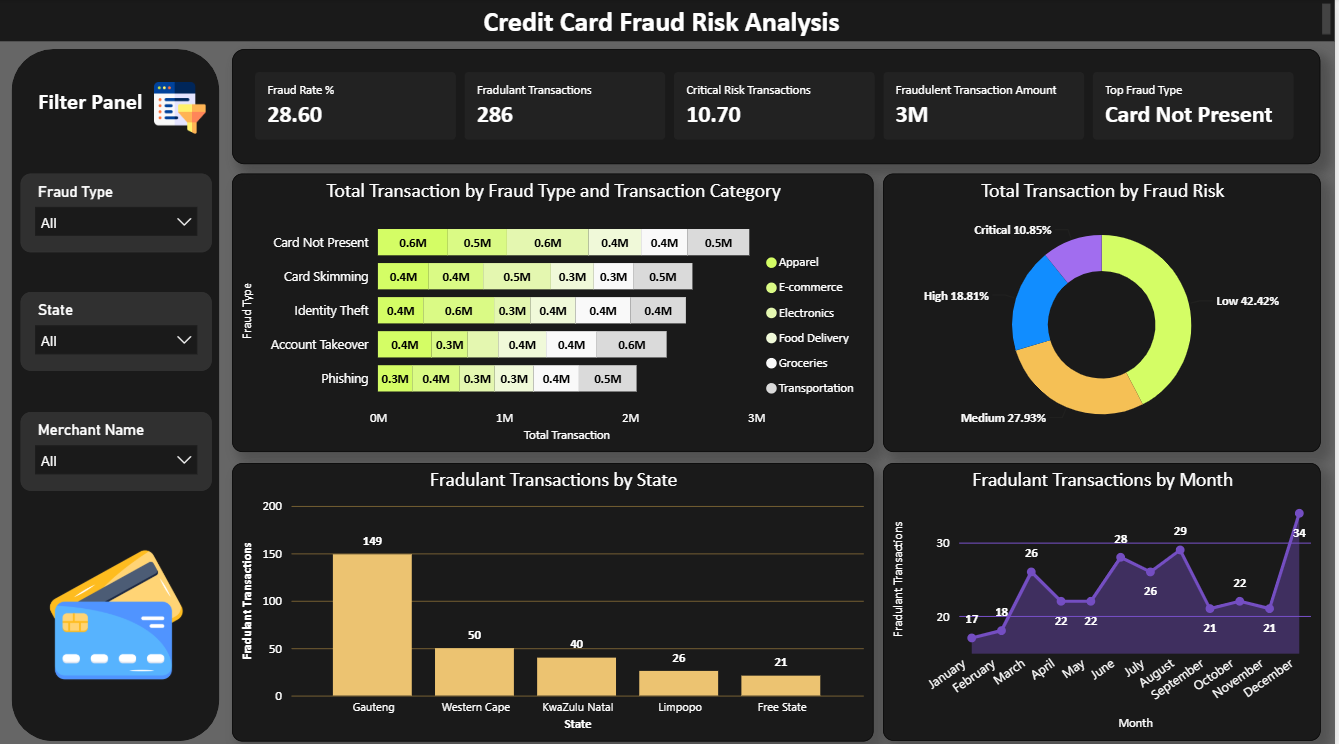

The page's visual inventory and layout, read from the dashboard file:
{"tool":"powerbi","page":{"name":"Page 1","canvas":[1280,720],"ordinal":0},"visuals":[{"type":"textbox","box":[0,0,1280.2,41.3],"z":0},{"type":"shape","box":[16.1,48.4,198.6,661.2],"z":1000},{"type":"group","id":"g1","title":"Group 1","box":[30.2,79.6,171.3,55.4],"z":2000},{"type":"textbox","box":[30.2,79.6,122,55.4],"z":2000,"group":"g1"},{"type":"image","box":[152.1,80.3,49.4,49.9],"z":2501,"group":"g1"},{"type":"barChart","fields":{"Category":["Credit Card Fraud Risk Analysis.Fraud Type"],"Y":["Credit Card Fraud Risk Analysis.Total_Transaction"],"Series":["Credit Card Fraud Risk Analysis.Transaction Category"]},"box":[226.8,167.3,612.8,266.1],"z":3000},{"type":"donutChart","fields":{"Y":["Credit Card Fraud Risk Analysis.Total_Transaction"],"Category":["Credit Card Fraud Risk Analysis.Fraud Risk"]},"box":[847.6,167.3,418.3,266.1],"z":4000},{"type":"columnChart","fields":{"Category":["Credit Card Fraud Risk Analysis.State"],"Y":["Credit Card Fraud Risk Analysis.Fradulant Transactions"]},"box":[226.8,443.5,612.8,266.1],"z":5000},{"type":"lineChart","fields":{"Y":["Credit Card Fraud Risk Analysis.Fradulant Transactions"],"Category":["Credit Card Fraud Risk Analysis.Transaction Date.Variation.Date Hierarchy.Month"]},"box":[847.6,443.5,418.3,265.1],"z":6000},{"type":"slicer","fields":{"Values":["Credit Card Fraud Risk Analysis.Fraud Type"]},"box":[24.2,167.3,182.4,75.6],"z":7000},{"type":"slicer","fields":{"Values":["Credit Card Fraud Risk Analysis.State"]},"box":[24.2,281.2,182.4,75.6],"z":8000},{"type":"slicer","fields":{"Values":["Credit Card Fraud Risk Analysis.Merchant Name"]},"box":[24.2,395.1,182.4,75.6],"z":9000},{"type":"image","box":[27.2,521.1,177.4,135.1],"z":10000},{"type":"cardVisual","fields":{"Data":["Credit Card Fraud Risk Analysis.Fraud Rate %","Credit Card Fraud Risk Analysis.Fradulant Transactions","Credit Card Fraud Risk Analysis.Critical Risk Transactions","Credit Card Fraud Risk Analysis.Fraudulent Transaction Amount","Credit Card Fraud Risk Analysis.Top_Fraud_Type"]},"box":[226.8,48.4,1039.1,109.9],"z":11000}]}

Visuals, with their boxes in screenshot pixels (x1, y1, x2, y2), scaled from the page's 1280x720 canvas onto the 1339x744 screenshot:
textbox: 0, 0, 1338, 43
shape: 17, 50, 225, 733
"Group 1" group: 32, 82, 211, 140
textbox: 32, 82, 159, 140
image: 159, 83, 211, 135
barChart - Credit Card Fraud Risk Analysis.Fraud Type x Credit Card Fraud Risk Analysis.Total_Transaction: 237, 173, 878, 448
donutChart - Credit Card Fraud Risk Analysis.Total_Transaction x Credit Card Fraud Risk Analysis.Fraud Risk: 887, 173, 1324, 448
columnChart - Credit Card Fraud Risk Analysis.State x Credit Card Fraud Risk Analysis.Fradulant Transactions: 237, 458, 878, 733
lineChart - Credit Card Fraud Risk Analysis.Fradulant Transactions x Credit Card Fraud Risk Analysis.Transaction Date.Variation.Date Hierarchy.Month: 887, 458, 1324, 732
slicer - Credit Card Fraud Risk Analysis.Fraud Type: 25, 173, 216, 251
slicer - Credit Card Fraud Risk Analysis.State: 25, 291, 216, 369
slicer - Credit Card Fraud Risk Analysis.Merchant Name: 25, 408, 216, 486
image: 28, 538, 214, 678
cardVisual - Credit Card Fraud Risk Analysis.Fraud Rate % x Credit Card Fraud Risk Analysis.Fradulant Transactions: 237, 50, 1324, 164
